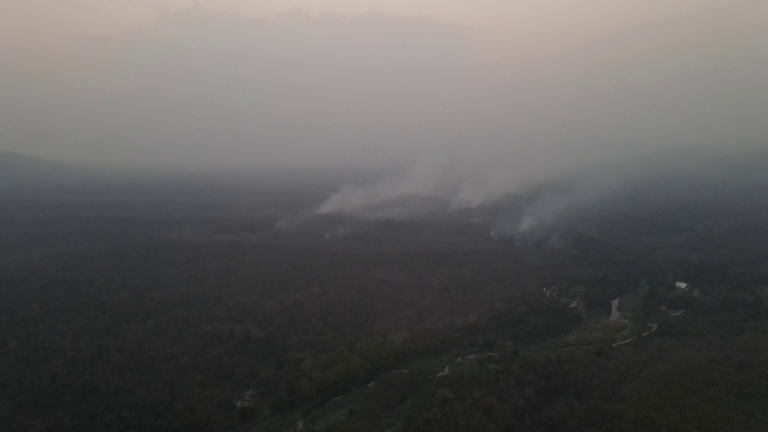smoke: (310, 114, 586, 235)
